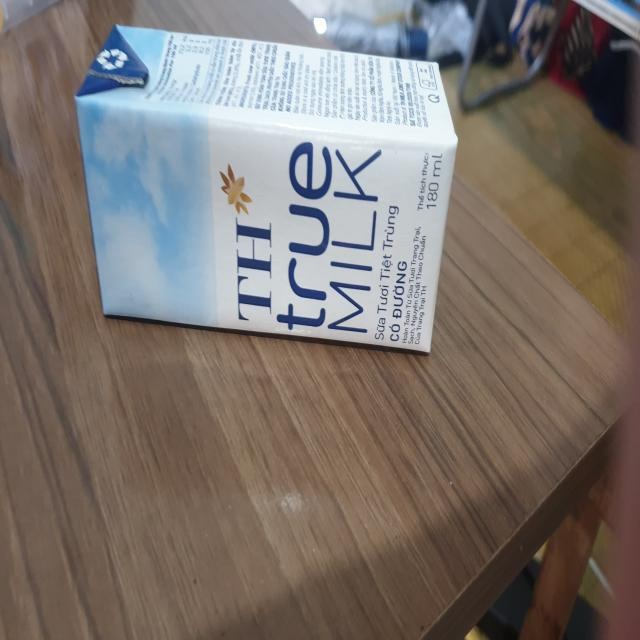TH: (75, 25, 457, 355)
